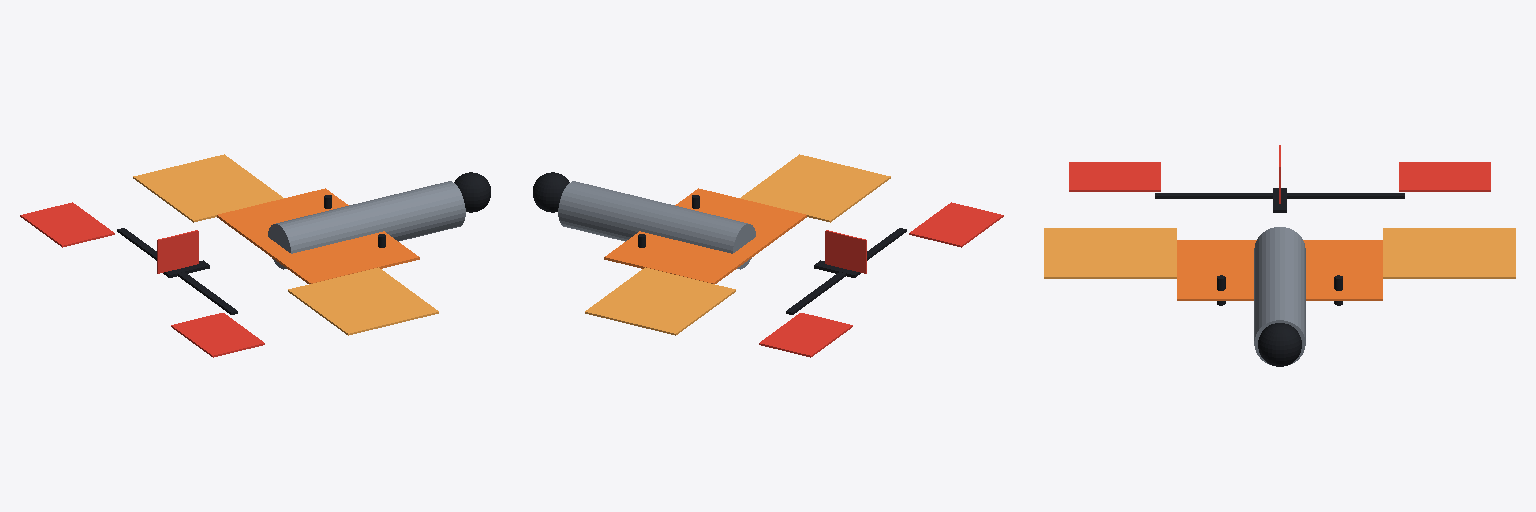
The robot description file, URDF, robot "fwav_15dof":
<?xml version="1.0"?>
<!-- ============================================================
  扑翼虚拟样机 · 15自由度 (FWAV virtual prototype)
  坐标系: REP-103  x前 y左 z上
  自由度账目: 机体浮动6 + 每翼3(拍动/扭转/折叠)×2 + 尾翼3(偏航1+差动俯仰2) = 15
  关节命名(驱动脚本按此接线):
    flap_L / flap_R      拍动, 轴=x, 左右正方向对称(驱动脚本自己带符号)
    twist_L / twist_R    扭转(攻角), 轴=展向y
    fold_L / fold_R      折叠, 轴=翼面法向z, L限位[0,1.2], R限位[-1.2,0]
    tail_yaw             尾整体偏航, 轴=z
    tail_L / tail_R      尾左右舵面, 轴=y; 同向=升降舵, 差动=滚转
  惯量=几何法重算(体素合成+平行轴转移至声明质心) 2026-09-30 I-002, 工具 tools/inertia_geometric_recalc.py, 运行时覆写已删除
  I-114 主翼视觉对齐气动表:面板覆盖展向 0 至 0.32,盒弦取梯形弦在段中点的值,
    双翼面积 0.1088 平方米与气动一致;折叠铰随内板边缘内移至 0.14;
    尾面板质量回到 0.008,整机求和恢复登记库现行值 0.215;
    除尾面板质量与惯量外,物理声明值一律未动
============================================================= -->
<robot name="fwav_15dof">

  <material name="body_gray"><color rgba="0.55 0.58 0.62 1"/></material>
  <material name="wing_amber"><color rgba="1.0 0.55 0.25 1"/></material>
  <material name="wing_amber2"><color rgba="1.0 0.70 0.35 1"/></material>
  <material name="tail_red"><color rgba="0.95 0.30 0.25 1"/></material>
  <material name="dark"><color rgba="0.15 0.16 0.18 1"/></material>

  <!-- ============ 机体 ============ -->
  <link name="base_link">
    <inertial><mass value="0.135"/><origin xyz="0 0 0"/>
      <inertia ixx="8.138066e-05" iyy="1.496858e-03" izz="1.495123e-03" ixy="0.000000e+00" ixz="-2.890381e-05" iyz="0.000000e+00"/></inertial>
    <visual>
      <origin xyz="0.02 0 0" rpy="0 1.5708 0"/>
      <geometry><cylinder radius="0.035" length="0.30"/></geometry>
      <material name="body_gray"/>
    </visual>
    <visual>
      <origin xyz="0.20 0 0.012"/>
      <geometry><sphere radius="0.030"/></geometry>
      <material name="dark"/>
    </visual>
    <collision>
      <origin xyz="0.02 0 0" rpy="0 1.5708 0"/>
      <geometry><cylinder radius="0.035" length="0.30"/></geometry>
    </collision>
  </link>

  <!-- ============ 左翼 (y+侧) ============ -->
  <joint name="flap_L" type="revolute">
    <parent link="base_link"/>
    <child link="flapconn_L"/>
    <origin xyz="0 0.06 0"/>
    <axis xyz="1 0 0"/>
    <limit lower="-1.4" upper="1.4" effort="5" velocity="30"/>
    <dynamics damping="0.01"/>
  </joint>
  <link name="flapconn_L">
    <inertial><mass value="0.006"/><origin xyz="0 0.01 0"/>
      <inertia ixx="1.454000e-06" iyy="8.540000e-07" izz="7.080000e-07" ixy="0.000000e+00" ixz="0.000000e+00" iyz="0.000000e+00"/></inertial>
    <visual><origin xyz="0 0.02 0"/><geometry><cylinder radius="0.006" length="0.04"/></geometry><material name="dark"/></visual>
  </link>

  <joint name="twist_L" type="revolute">
    <parent link="flapconn_L"/>
    <child link="innerwing_L"/>
    <origin xyz="0 0 0"/>
    <axis xyz="0 1 0"/>
    <limit lower="-1.0" upper="1.0" effort="3" velocity="30"/>
    <dynamics damping="0.01"/>
  </joint>
  <link name="innerwing_L">
    <inertial><mass value="0.012"/><origin xyz="-0.05 0.09 0"/>
      <inertia ixx="3.241600e-05" iyy="4.481600e-05" izz="7.720000e-05" ixy="0.000000e+00" ixz="0.000000e+00" iyz="0.000000e+00"/></inertial>
    <visual>
      <origin xyz="-0.06344 0.01 0"/>
      <geometry><box size="0.18688 0.14 0.004"/></geometry>
      <material name="wing_amber"/>
    </visual>
    <collision><origin xyz="-0.06344 0.01 0"/><geometry><box size="0.18688 0.14 0.004"/></geometry></collision>
  </link>

  <joint name="fold_L" type="revolute">
    <parent link="innerwing_L"/>
    <child link="outerwing_L"/>
    <origin xyz="-0.07 0.08 0"/>
    <axis xyz="0 0 1"/>
    <limit lower="0" upper="1.2" effort="2" velocity="30"/>
    <dynamics damping="0.01"/>
  </joint>
  <link name="outerwing_L">
    <inertial><mass value="0.009"/><origin xyz="-0.03 0.08 0"/>
      <inertia ixx="1.920675e-05" iyy="1.080675e-05" izz="3.000000e-05" ixy="0.000000e+00" ixz="0.000000e+00" iyz="0.000000e+00"/></inertial>
    <visual>
      <origin xyz="-0.04844 0.09 0"/>
      <geometry><box size="0.15688 0.18 0.003"/></geometry>
      <material name="wing_amber2"/>
    </visual>
    <collision><origin xyz="-0.04844 0.09 0"/><geometry><box size="0.15688 0.18 0.003"/></geometry></collision>
  </link>

  <!-- ============ 右翼 (y-侧, 镜像) ============ -->
  <joint name="flap_R" type="revolute">
    <parent link="base_link"/>
    <child link="flapconn_R"/>
    <origin xyz="0 -0.06 0"/>
    <axis xyz="1 0 0"/>
    <limit lower="-1.4" upper="1.4" effort="5" velocity="30"/>
    <dynamics damping="0.01"/>
  </joint>
  <link name="flapconn_R">
    <inertial><mass value="0.006"/><origin xyz="0 -0.01 0"/>
      <inertia ixx="1.454000e-06" iyy="8.540000e-07" izz="7.080000e-07" ixy="0.000000e+00" ixz="0.000000e+00" iyz="0.000000e+00"/></inertial>
    <visual><origin xyz="0 -0.02 0"/><geometry><cylinder radius="0.006" length="0.04"/></geometry><material name="dark"/></visual>
  </link>

  <joint name="twist_R" type="revolute">
    <parent link="flapconn_R"/>
    <child link="innerwing_R"/>
    <origin xyz="0 0 0"/>
    <axis xyz="0 1 0"/>
    <limit lower="-1.0" upper="1.0" effort="3" velocity="30"/>
    <dynamics damping="0.01"/>
  </joint>
  <link name="innerwing_R">
    <inertial><mass value="0.012"/><origin xyz="-0.05 -0.09 0"/>
      <inertia ixx="3.241600e-05" iyy="4.481600e-05" izz="7.720000e-05" ixy="0.000000e+00" ixz="0.000000e+00" iyz="0.000000e+00"/></inertial>
    <visual>
      <origin xyz="-0.06344 -0.01 0"/>
      <geometry><box size="0.18688 0.14 0.004"/></geometry>
      <material name="wing_amber"/>
    </visual>
    <collision><origin xyz="-0.06344 -0.01 0"/><geometry><box size="0.18688 0.14 0.004"/></geometry></collision>
  </link>

  <joint name="fold_R" type="revolute">
    <parent link="innerwing_R"/>
    <child link="outerwing_R"/>
    <origin xyz="-0.07 -0.08 0"/>
    <axis xyz="0 0 1"/>
    <limit lower="-1.2" upper="0" effort="2" velocity="30"/>
    <dynamics damping="0.01"/>
  </joint>
  <link name="outerwing_R">
    <inertial><mass value="0.009"/><origin xyz="-0.03 -0.08 0"/>
      <inertia ixx="1.920675e-05" iyy="1.080675e-05" izz="3.000000e-05" ixy="0.000000e+00" ixz="0.000000e+00" iyz="0.000000e+00"/></inertial>
    <visual>
      <origin xyz="-0.04844 -0.09 0"/>
      <geometry><box size="0.15688 0.18 0.003"/></geometry>
      <material name="wing_amber2"/>
    </visual>
    <collision><origin xyz="-0.04844 -0.09 0"/><geometry><box size="0.15688 0.18 0.003"/></geometry></collision>
  </link>

  <!-- ============ 尾翼: 偏航基座 + 左右差动舵面 ============ -->
  <joint name="tail_yaw" type="revolute">
    <parent link="base_link"/>
    <child link="tail_base"/>
    <origin xyz="-0.26 0 0"/>
    <axis xyz="0 0 1"/>
    <limit lower="-0.6" upper="0.6" effort="1" velocity="15"/>
    <dynamics damping="0.01"/>
  </joint>
  <link name="tail_base">
    <inertial><mass value="0.01"/><origin xyz="-0.03 0 0"/>
      <inertia ixx="8.083742e-06" iyy="1.343756e-05" izz="5.614733e-06" ixy="0.000000e+00" ixz="2.988679e-06" iyz="0.000000e+00"/></inertial>
    <visual><origin xyz="-0.03 0 0"/><geometry><box size="0.07 0.02 0.005"/></geometry><material name="dark"/></visual>
    <visual><origin xyz="-0.045 0 0.032"/><geometry><box size="0.07 0.003 0.055"/></geometry><material name="tail_red"/></visual>
    <!-- I-096 构型同步:差动半展外移至 0.224(I-095 气动表力臂),
         展向延伸杆连接铰链与外移舵面,仅视觉不承担气动与碰撞 -->
    <visual><origin xyz="-0.045 0.085 0"/><geometry><box size="0.012 0.17 0.004"/></geometry><material name="dark"/></visual>
    <visual><origin xyz="-0.045 -0.085 0"/><geometry><box size="0.012 0.17 0.004"/></geometry><material name="dark"/></visual>
  </link>

  <joint name="tail_L" type="revolute">
    <parent link="tail_base"/>
    <child link="tailpanel_L"/>
    <origin xyz="-0.06 0.012 0"/>
    <axis xyz="0 1 0"/>
    <limit lower="-0.5" upper="0.5" effort="1" velocity="15"/>
    <dynamics damping="0.01"/>
  </joint>
  <link name="tailpanel_L">
    <!-- I-096 构型同步:单面面积 0.01125,总 0.0225 见 I-095,弦 0.09
         不变,展 0.125,压心力臂 0.224 绝对,面板中心相对铰链 y=0.212。
         I-114 总质量统一:质量由 I-096 面积比定值 0.01042 回到 0.008,
         整机求和恢复登记库现行值 0.215,惯量按薄板公式随质量重算 -->
    <inertial><mass value="0.008"/><origin xyz="-0.045 0.212 0"/>
      <inertia ixx="1.042e-05" iyy="5.406e-06" izz="1.582e-05" ixy="0.000000e+00" ixz="0.000000e+00" iyz="0.000000e+00"/></inertial>
    <visual>
      <origin xyz="-0.045 0.212 0"/>
      <geometry><box size="0.09 0.125 0.003"/></geometry>
      <material name="tail_red"/>
    </visual>
    <collision><origin xyz="-0.045 0.212 0"/><geometry><box size="0.09 0.125 0.003"/></geometry></collision>
  </link>

  <joint name="tail_R" type="revolute">
    <parent link="tail_base"/>
    <child link="tailpanel_R"/>
    <origin xyz="-0.06 -0.012 0"/>
    <axis xyz="0 1 0"/>
    <limit lower="-0.5" upper="0.5" effort="1" velocity="15"/>
    <dynamics damping="0.01"/>
  </joint>
  <link name="tailpanel_R">
    <inertial><mass value="0.008"/><origin xyz="-0.045 -0.212 0"/>
      <inertia ixx="1.042e-05" iyy="5.406e-06" izz="1.582e-05" ixy="0.000000e+00" ixz="0.000000e+00" iyz="0.000000e+00"/></inertial>
    <visual>
      <origin xyz="-0.045 -0.212 0"/>
      <geometry><box size="0.09 0.125 0.003"/></geometry>
      <material name="tail_red"/>
    </visual>
    <collision><origin xyz="-0.045 -0.212 0"/><geometry><box size="0.09 0.125 0.003"/></geometry></collision>
  </link>

</robot>

--- Facts derived from the render (not from the file) ---
Views: 3 orthographic renders of the robot side by side, from view 1: azimuth 30°, elevation 25°; view 2: azimuth 150°, elevation 25°; view 3: azimuth 270°, elevation 25°.
Model fwav_15dof with 10 links and 9 joints (9 revolute), rooted at base_link, posed all joints at 0.
Visible links, largest first — view 1: base_link, outerwing_R, outerwing_L, innerwing_R, innerwing_L, tail_base, tailpanel_L, tailpanel_R; view 2: base_link, outerwing_L, outerwing_R, innerwing_L, innerwing_R, tail_base, tailpanel_R, tailpanel_L; view 3: outerwing_L, outerwing_R, base_link, innerwing_L, innerwing_R, tailpanel_L, tailpanel_R, tail_base.
Boxes of the visible links, left/top/right/bottom form: base_link: left=268, top=172, right=490, bottom=269; outerwing_R: left=288, top=267, right=438, bottom=335; outerwing_L: left=133, top=154, right=283, bottom=222; innerwing_R: left=264, top=231, right=419, bottom=283; innerwing_L: left=217, top=188, right=348, bottom=250; tail_base: left=117, top=228, right=237, bottom=314; tailpanel_L: left=20, top=202, right=114, bottom=247; tailpanel_R: left=171, top=313, right=264, bottom=357; base_link: left=533, top=172, right=755, bottom=269; outerwing_L: left=585, top=267, right=735, bottom=335; outerwing_R: left=740, top=154, right=890, bottom=222; innerwing_L: left=604, top=231, right=759, bottom=283; innerwing_R: left=675, top=188, right=806, bottom=250; tail_base: left=786, top=228, right=906, bottom=314; tailpanel_R: left=909, top=202, right=1003, bottom=247; tailpanel_L: left=759, top=313, right=852, bottom=357; outerwing_L: left=1383, top=228, right=1515, bottom=278; outerwing_R: left=1044, top=228, right=1176, bottom=278; base_link: left=1254, top=227, right=1305, bottom=366; innerwing_L: left=1303, top=240, right=1382, bottom=300; innerwing_R: left=1177, top=240, right=1256, bottom=300; tailpanel_L: left=1399, top=162, right=1490, bottom=191; tailpanel_R: left=1069, top=162, right=1160, bottom=191; tail_base: left=1155, top=145, right=1404, bottom=212.
Bounding box of the posed robot: 0.64 × 0.64 × 0.0945 m (x, y, z).
Geometry: primitives only (box / cylinder / sphere), no mesh files.
